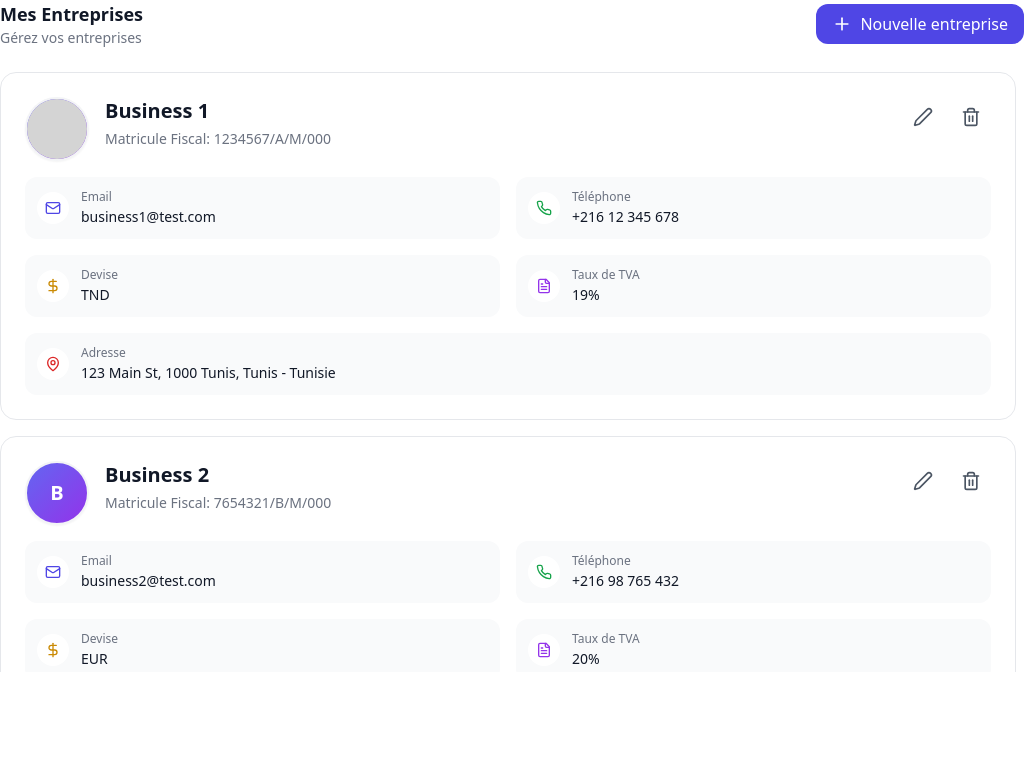
Scenario: BusinessManagement › Create Business Modal › should close modal when clicking X button
Expected: the heading "Business 1" is shown, x1=105 y1=97 x2=209 y2=124
Click the button "Nouvelle entreprise". click: point(920, 24)
box: x1=816 y1=4 x2=1023 y2=44
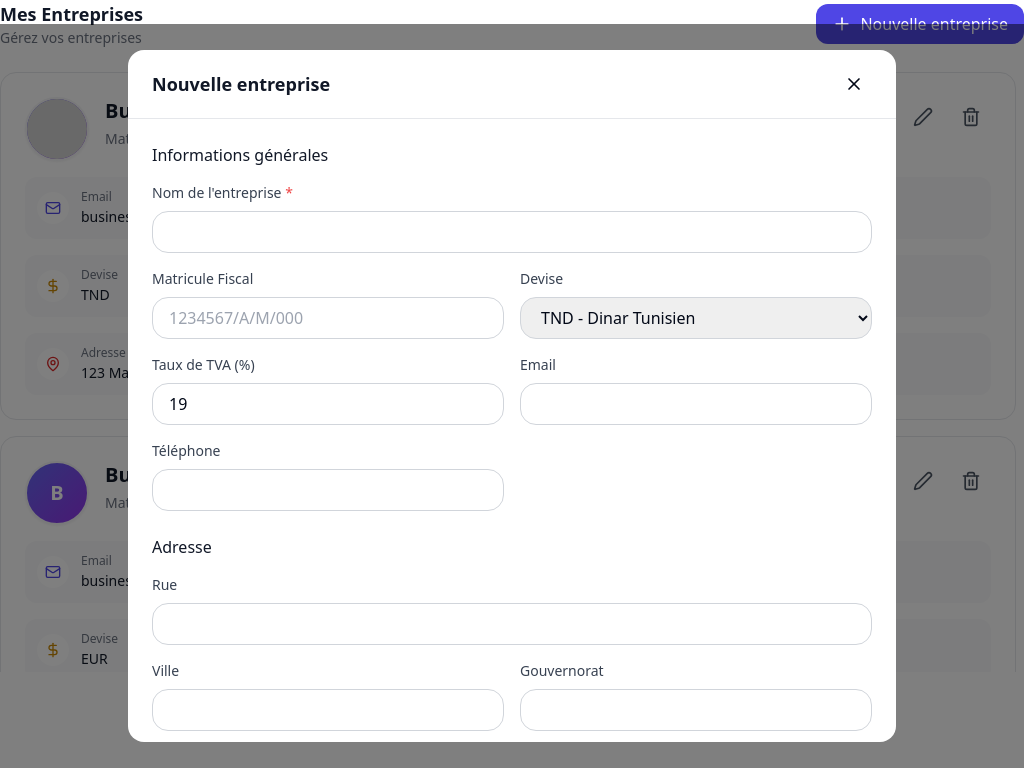
Click the button. click: point(854, 84)
box: x1=836 y1=66 x2=872 y2=102
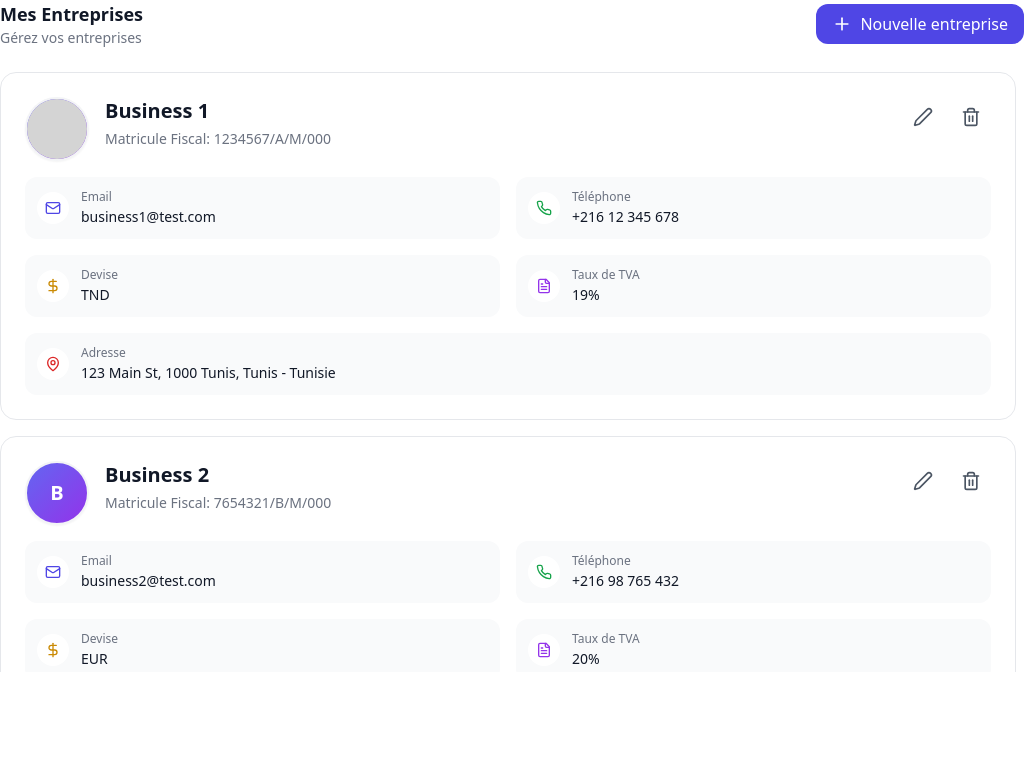
Expected: the label labelled "Nom de l'entreprise" is gone
